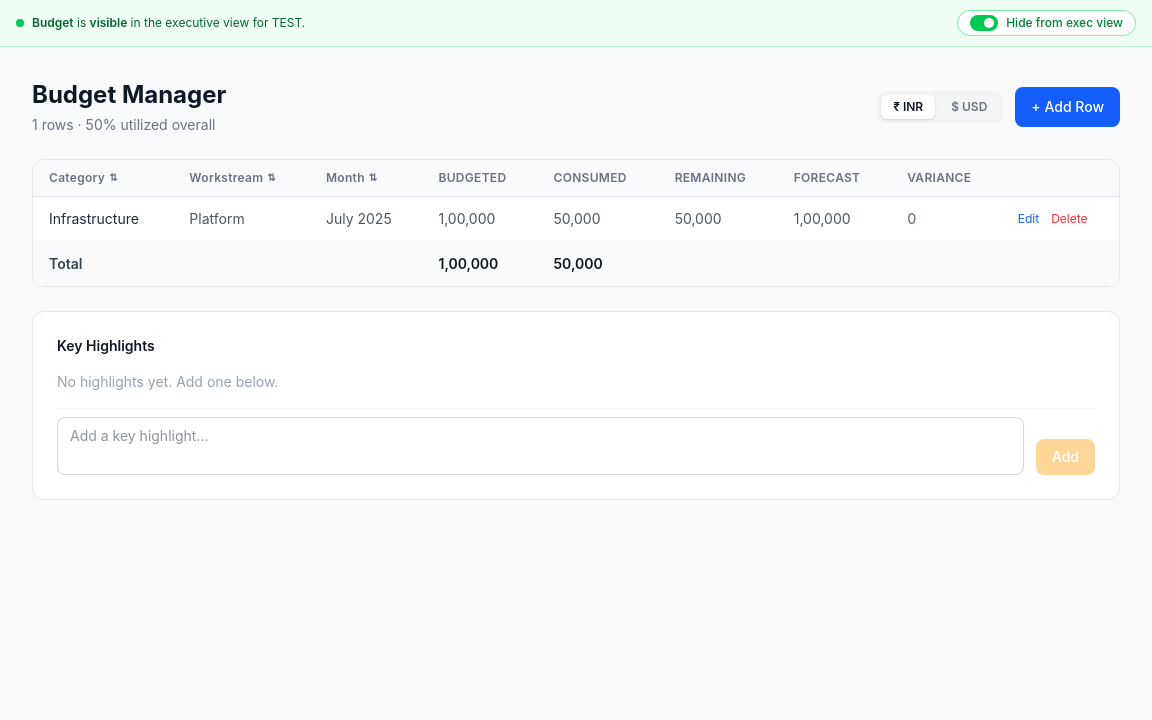
Test: BudgetEditor › T-34.06: Edit button opens modal for existing row
expect the text "Infrastructure" is shown: met, box [33,196,173,242]
Click the button "Edit" at (1028, 219), box [1018,211,1039,227]
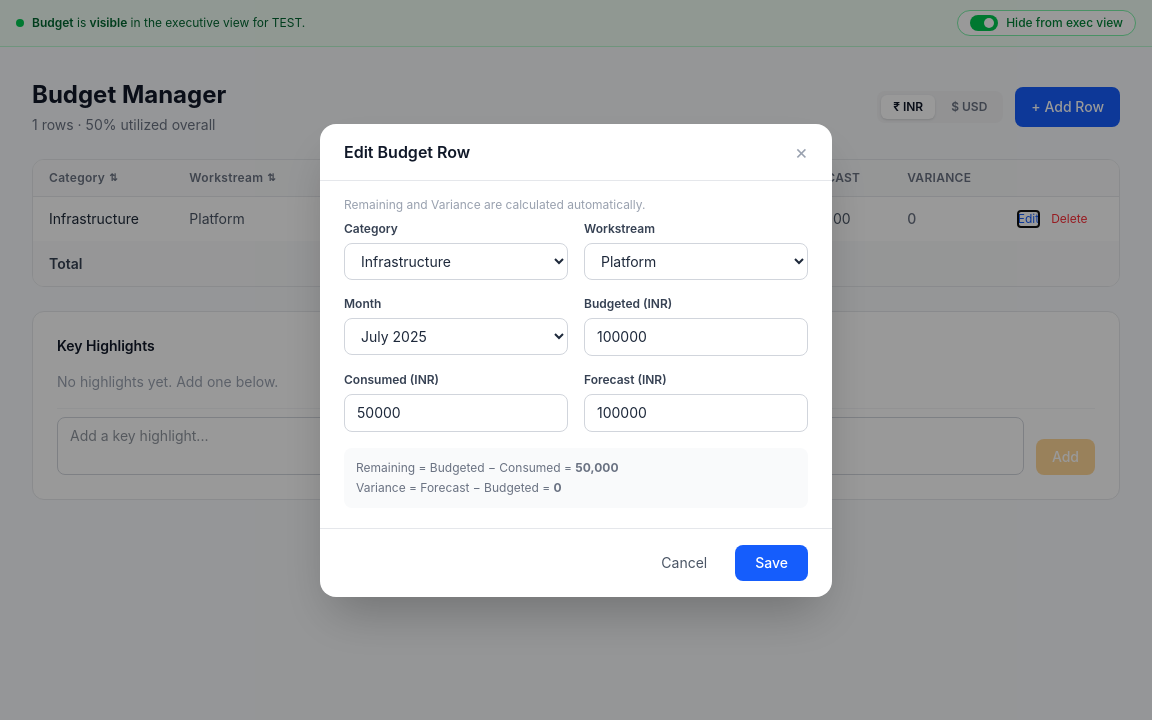
expect the heading "Edit Budget Row" is shown: met, box [344,140,470,164]
